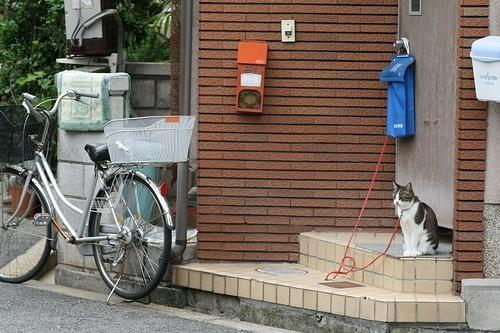bicycle: (0, 92, 175, 306)
